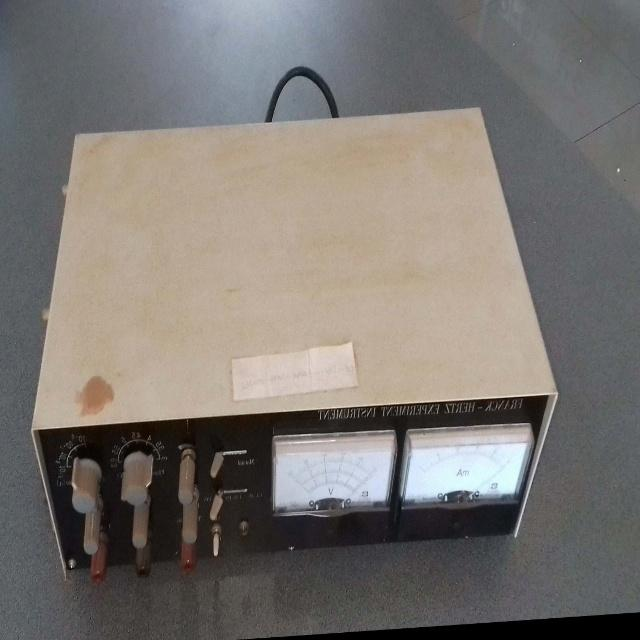Frank-Hertz Experiment Apparatus: (6, 84, 574, 618)
